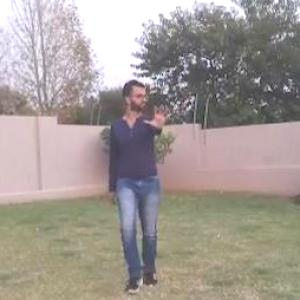follow_hand: (148, 96, 176, 130)
